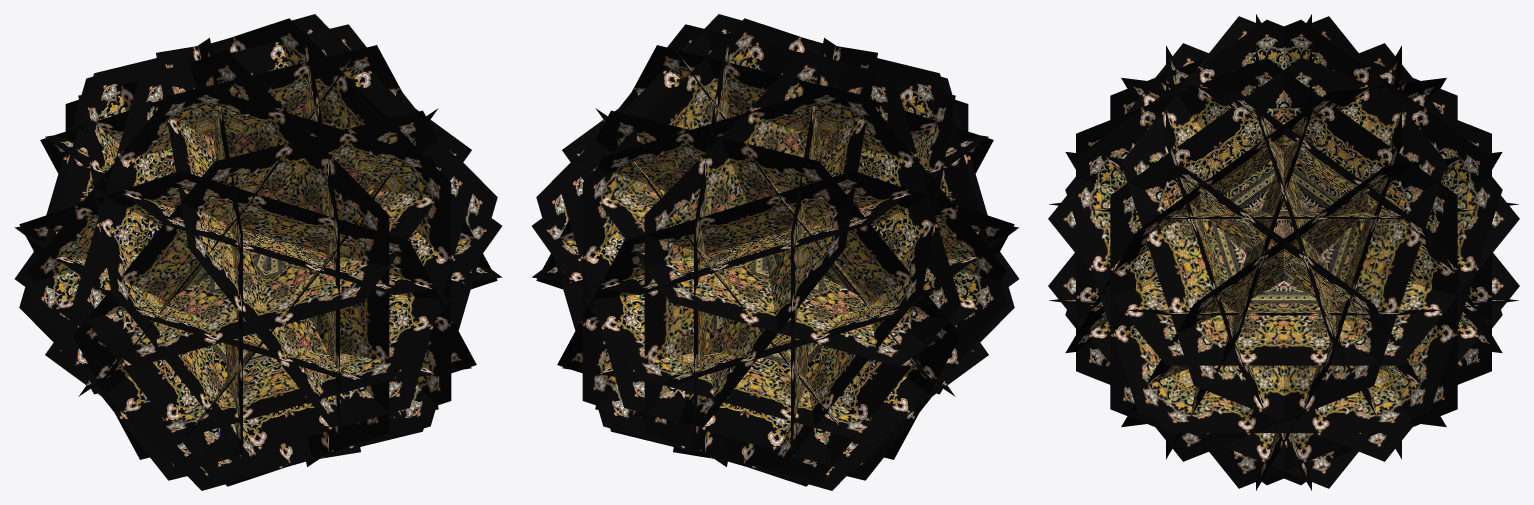
File: GreatTruncatedIcosidodecahedron2.gltf
The picture shows the model from 3 angles, left to right: view 1: azimuth 30°, elevation 25°; view 2: azimuth 150°, elevation 25°; view 3: azimuth 270°, elevation 25°; orthographic projection. The views are drawn at different scales.
Parts seen in each view (by area): view 1: GreatTruncatedIcosidodecahedron; view 2: GreatTruncatedIcosidodecahedron; view 3: GreatTruncatedIcosidodecahedron.
Boxes of the visible parts, <box> form: GreatTruncatedIcosidodecahedron: <box>15,14,501,490</box>; GreatTruncatedIcosidodecahedron: <box>532,14,1018,490</box>; GreatTruncatedIcosidodecahedron: <box>1048,14,1519,490</box>.
Size of the model in its own units: 2 by 2 by 2.
1 material, 1 textured.
